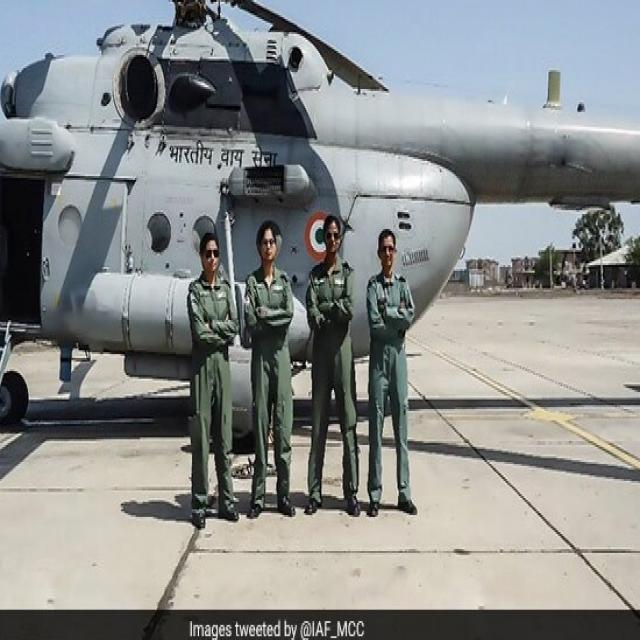helicopter: (1, 1, 640, 440)
